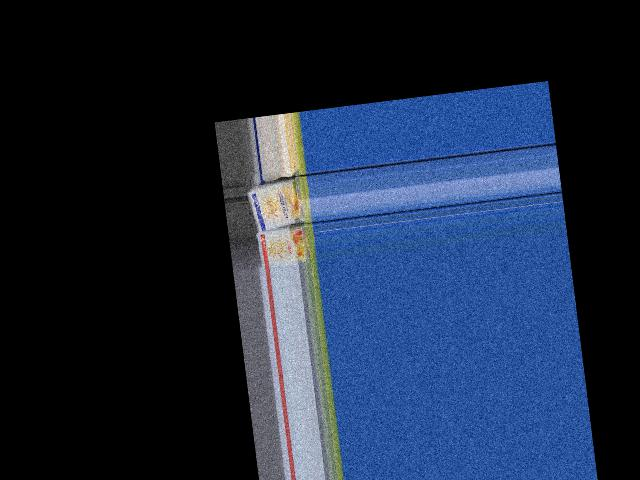cheese: (253, 225, 317, 270)
